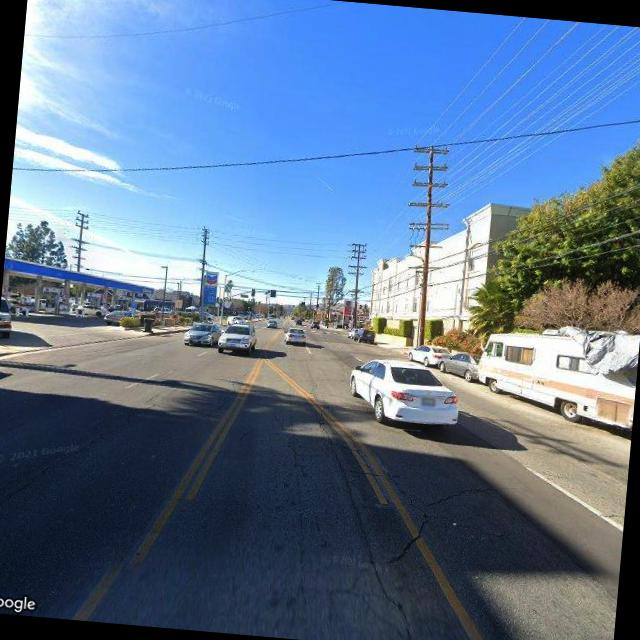pothole: (274, 364, 452, 637), (0, 383, 157, 517)
